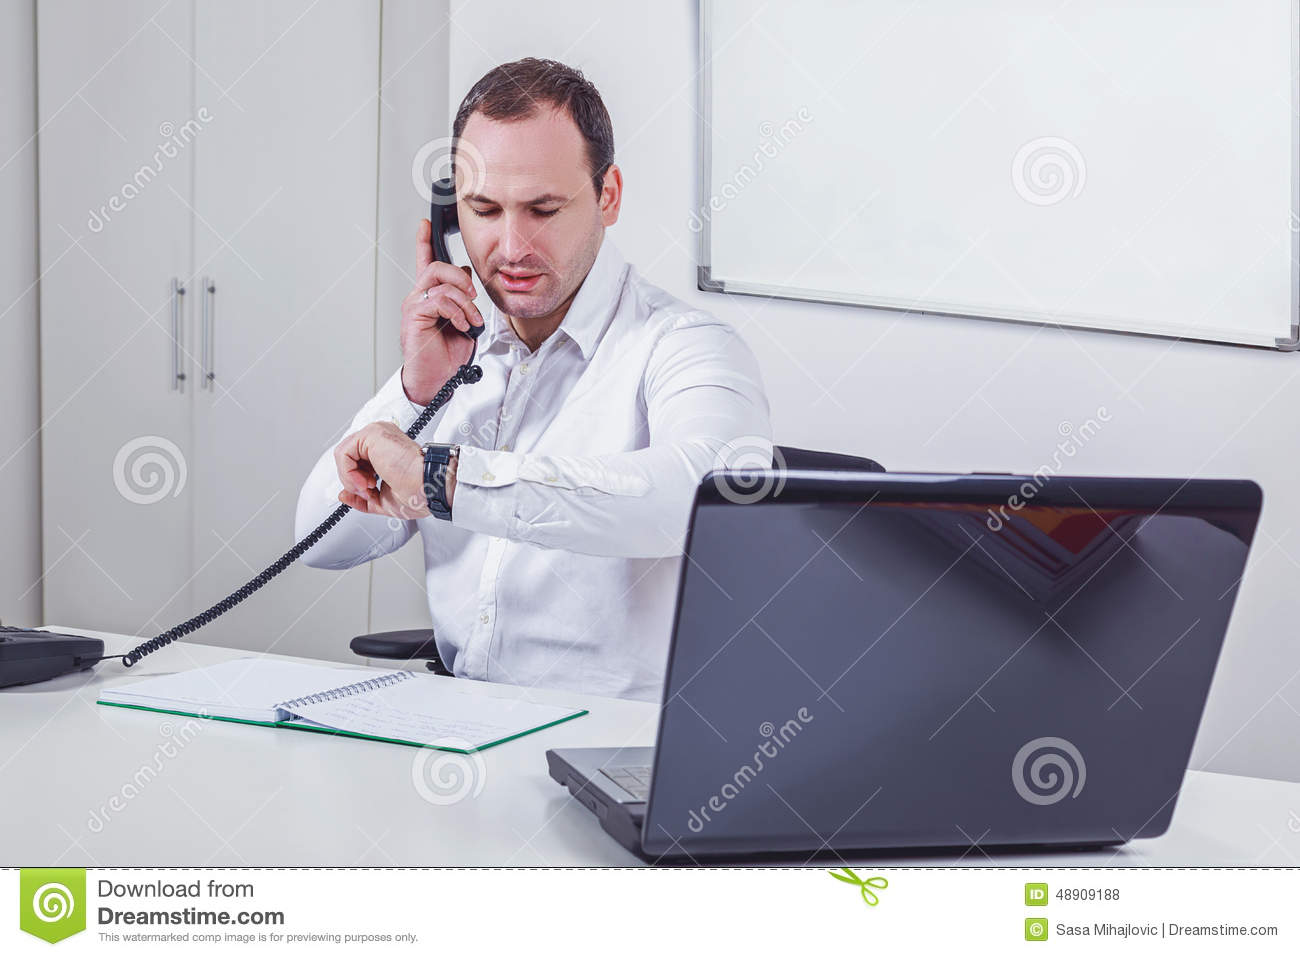talk: (397, 167, 582, 407)
